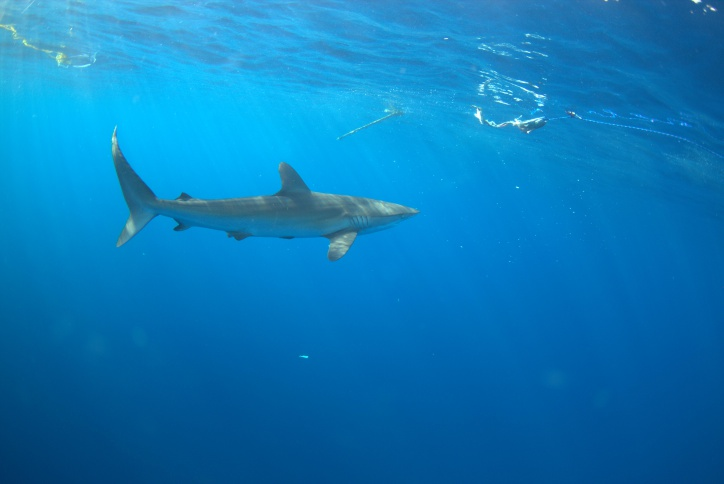Sedoso: (105, 112, 427, 272)
